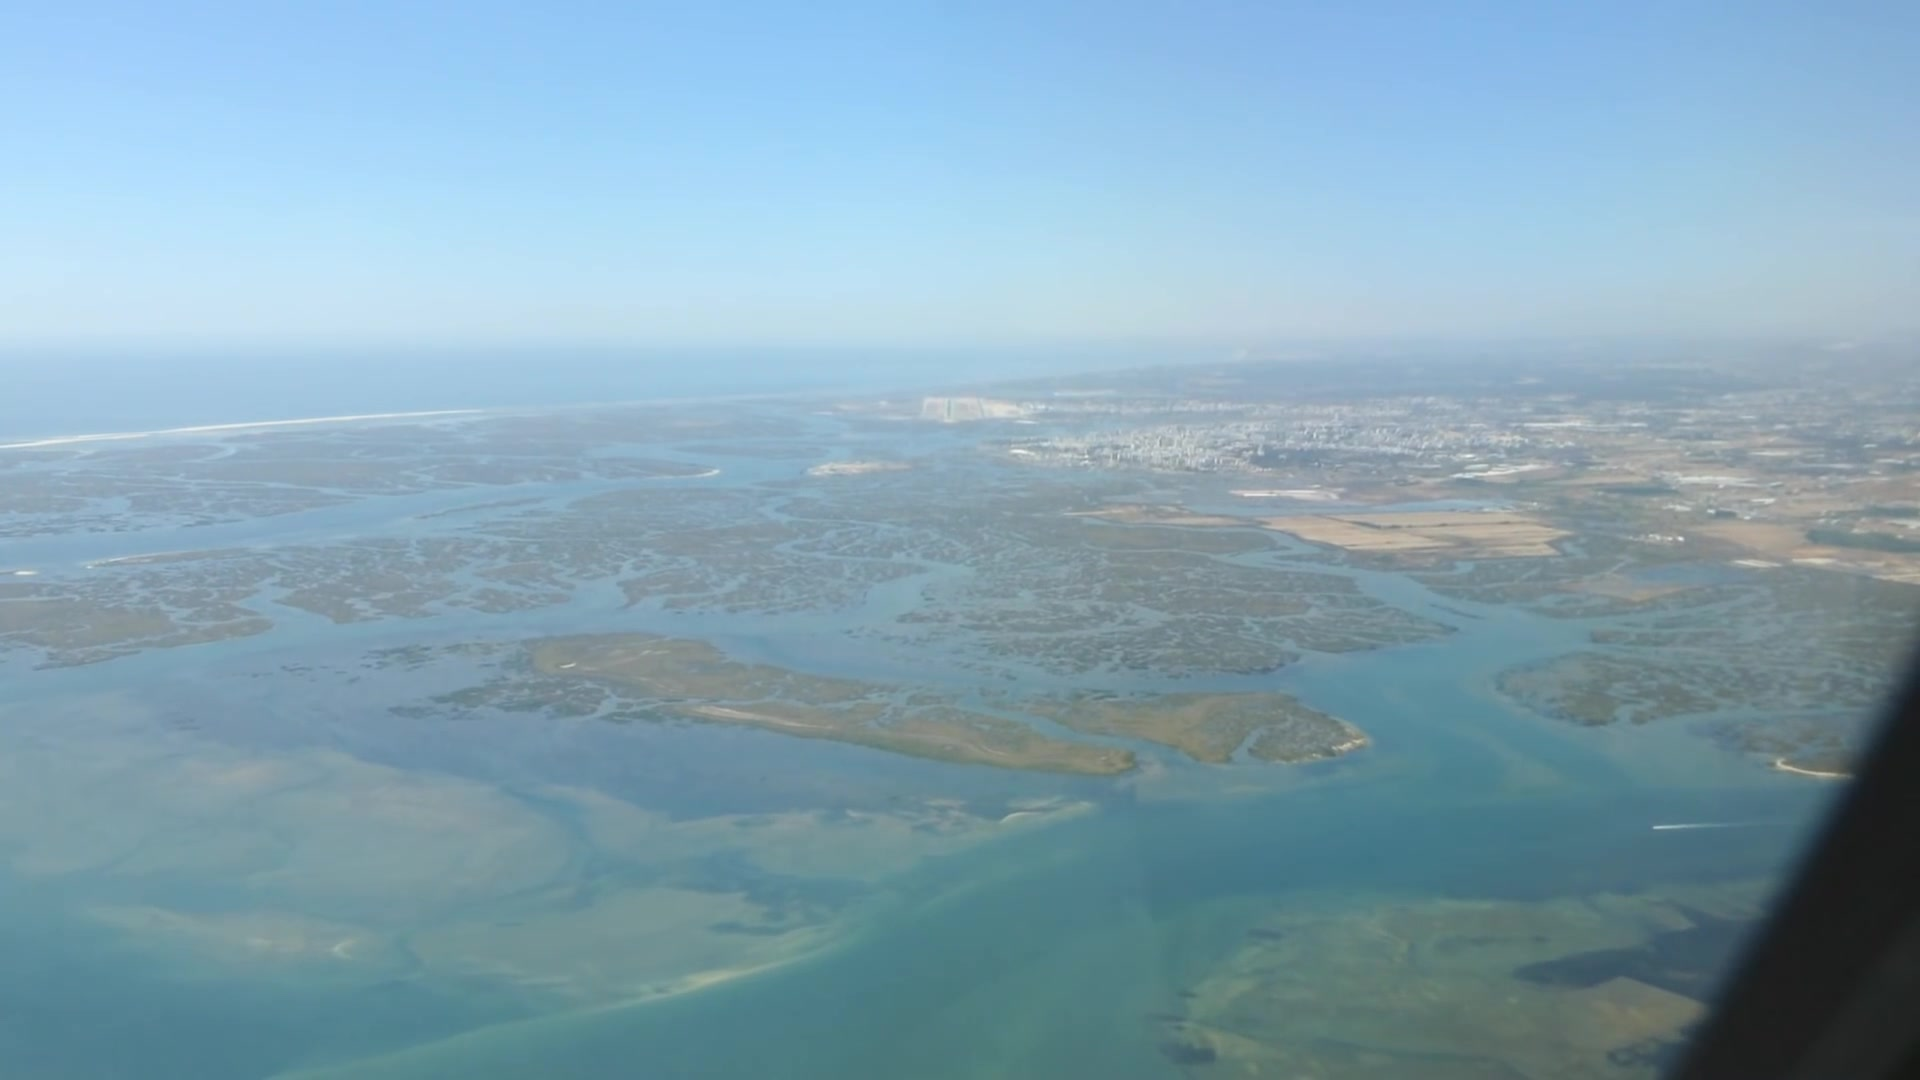runway: (943, 396, 953, 425), (975, 396, 988, 418)
